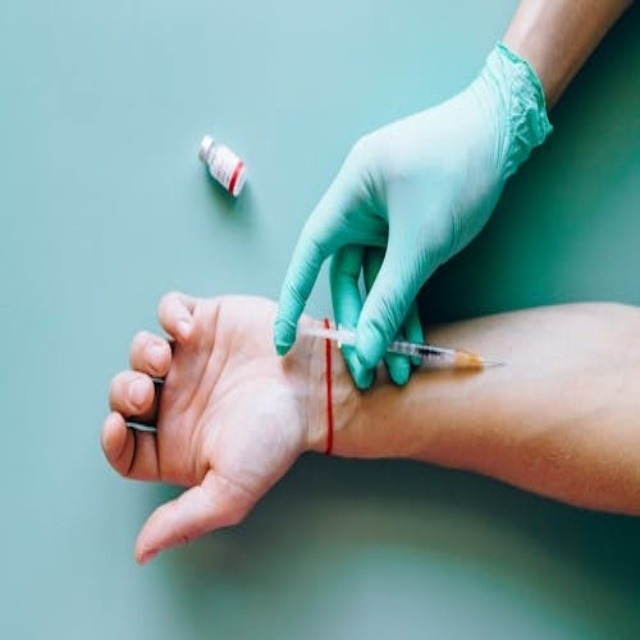Guantes: (274, 40, 553, 385)
Sin_guantes: (99, 283, 341, 564)
